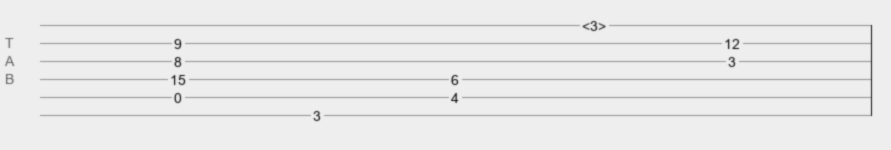0: (174, 90, 182, 100)
12: (724, 36, 740, 46)
15: (170, 72, 186, 82)
3: (313, 108, 321, 118), (728, 54, 736, 64)
4: (451, 90, 459, 100)
6: (451, 72, 459, 82)
8: (174, 54, 182, 64)
9: (174, 36, 182, 46)
harmonic: (582, 18, 606, 28)
